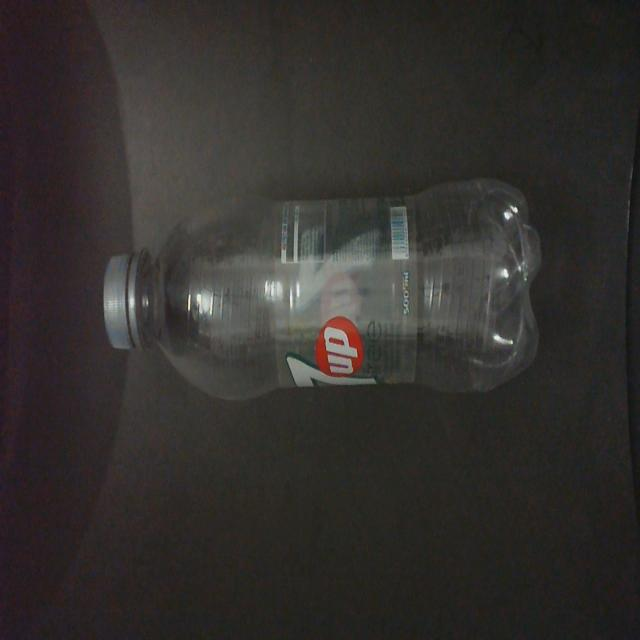non-defect: (100, 172, 544, 407)
